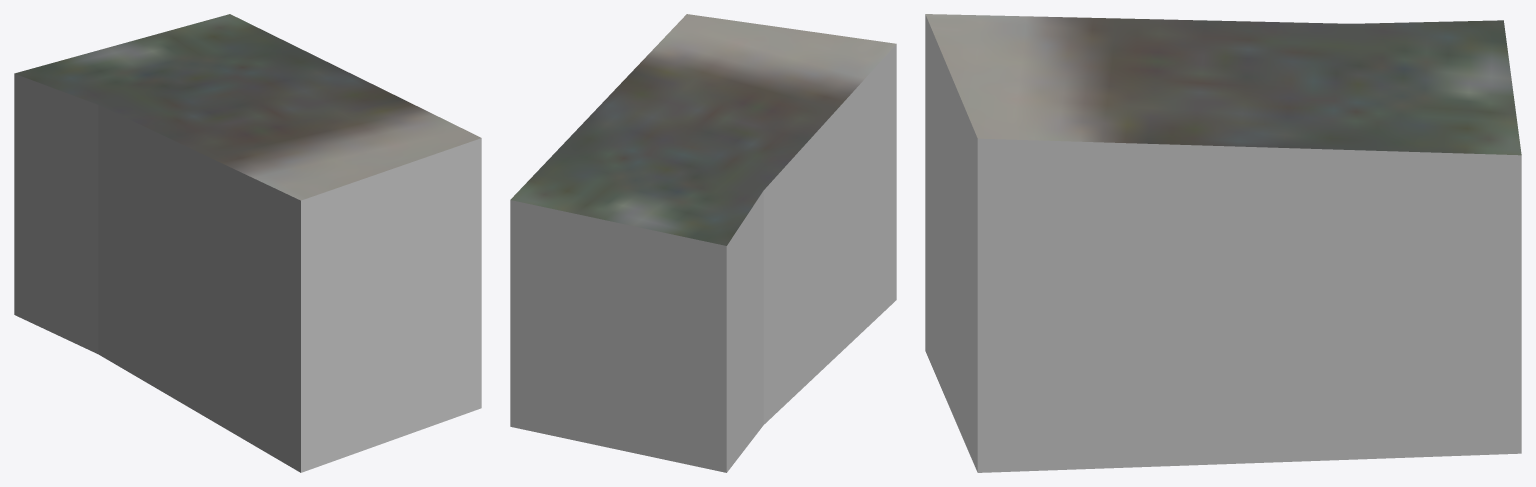
The model's file is DEBW_0010007Tx3d.gltf.
3 renders of one model, left to right at view 1: azimuth 30°, elevation 25°; view 2: azimuth 150°, elevation 25°; view 3: azimuth 270°, elevation 25°, orthographic. The views are drawn at different scales.
Parts seen in each view (by area): view 1: Z_UP; view 2: Z_UP; view 3: Z_UP.
Boxes of the visible parts, left/top/right/bottom form: Z_UP: left=14, top=14, right=481, bottom=472; Z_UP: left=510, top=14, right=896, bottom=472; Z_UP: left=925, top=14, right=1521, bottom=472.
Bounding box in the file's own units: 3.27 × 3.34 × 5.35.
Materials: 2 (1 with a texture image).
